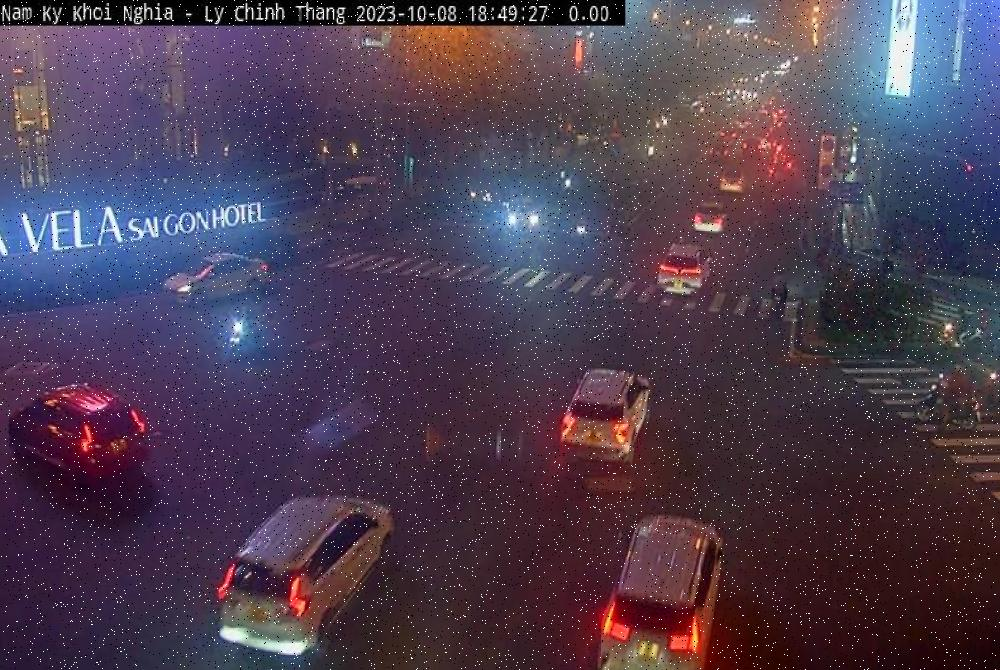car: (213, 490, 397, 670), (593, 508, 729, 670), (6, 387, 156, 499), (558, 367, 653, 478), (162, 249, 274, 307), (657, 241, 718, 302), (692, 203, 728, 232)
